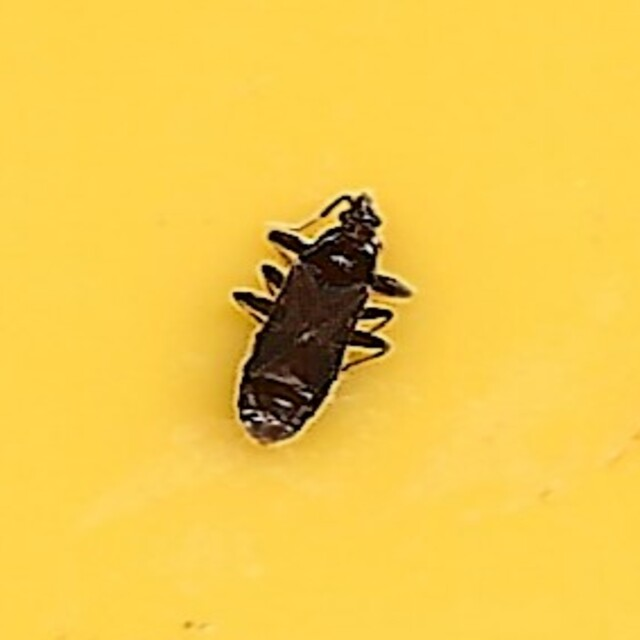Plecoptera: (226, 192, 414, 448)
